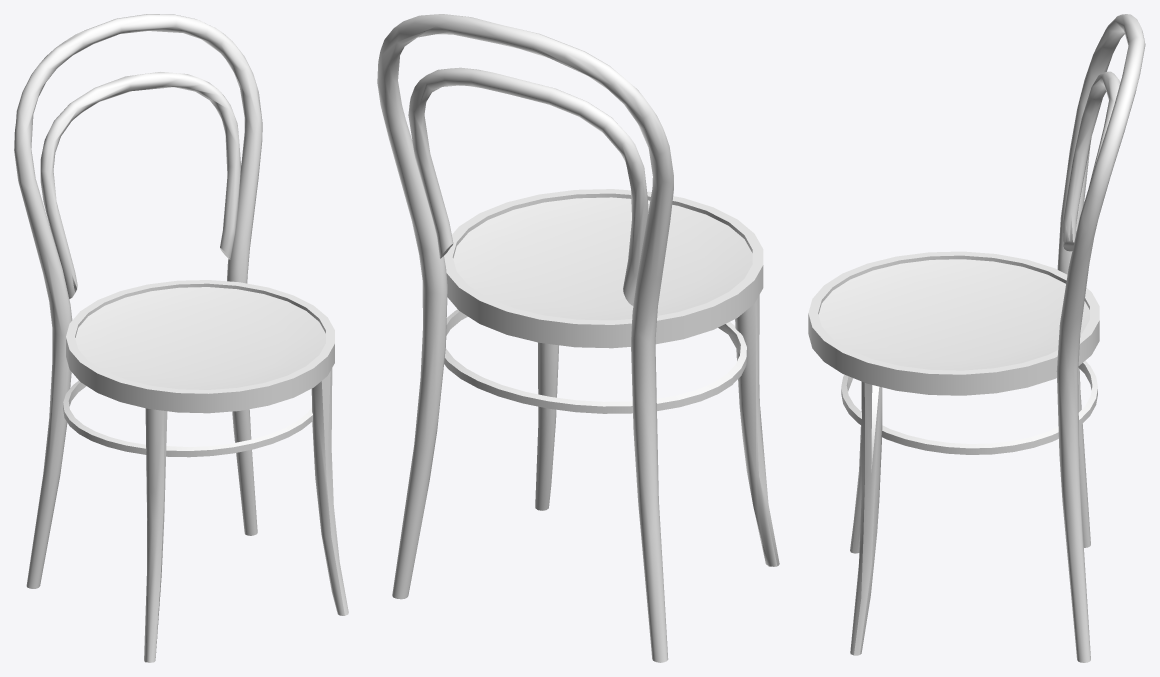
Rendered from Chair 3.FBX.
3 renders of one model, left to right at view 1: azimuth 30°, elevation 25°; view 2: azimuth 150°, elevation 25°; view 3: azimuth 270°, elevation 25°, orthographic. The views are drawn at different scales.
Parts seen in each view (by area): view 1: Chair 3; view 2: Chair 3; view 3: Chair 3.
Boxes of the visible parts, x1,y1,x2,y2 form: Chair 3: (14, 14, 348, 662); Chair 3: (377, 14, 779, 662); Chair 3: (808, 14, 1145, 662).
Bounding box in the file's own units: 50.51 × 104 × 56.13.
Materials: 1 (1 with a texture image).
